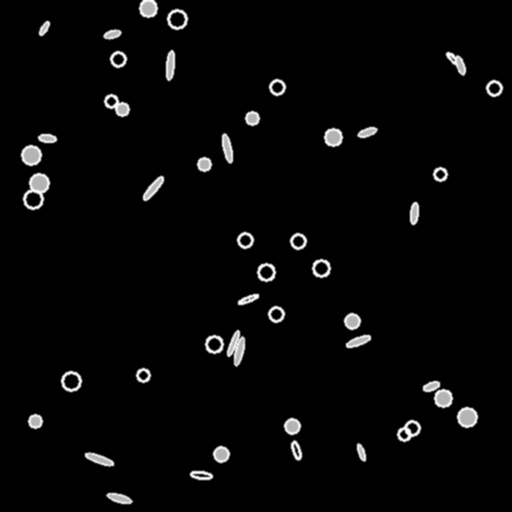pseudomonas: (141, 175, 165, 201), (84, 451, 114, 467), (220, 133, 234, 163), (232, 336, 246, 366), (345, 334, 371, 348), (226, 330, 240, 356), (107, 491, 132, 505), (165, 51, 175, 79), (237, 293, 259, 305), (357, 126, 377, 138), (290, 440, 302, 460), (454, 56, 466, 74), (422, 380, 440, 392), (103, 28, 121, 40), (191, 470, 211, 480), (409, 203, 419, 223), (445, 51, 459, 65), (38, 20, 50, 36), (356, 444, 366, 460), (39, 134, 55, 142)
synechocystis: (168, 10, 186, 28), (30, 174, 48, 192), (62, 372, 80, 390), (458, 408, 476, 426), (24, 190, 42, 208), (22, 146, 40, 164), (140, 0, 156, 16), (313, 260, 329, 276), (435, 390, 451, 406), (206, 336, 222, 352), (325, 129, 341, 145), (258, 264, 274, 280), (111, 52, 125, 66), (345, 314, 359, 328), (487, 81, 501, 95), (285, 419, 299, 433), (238, 233, 252, 247), (405, 421, 419, 435), (214, 447, 228, 461), (291, 234, 305, 248), (270, 80, 284, 94), (269, 307, 283, 321), (434, 168, 446, 180), (105, 95, 117, 107), (246, 112, 258, 124), (398, 428, 410, 440), (137, 369, 149, 381), (116, 103, 128, 115), (29, 415, 41, 427), (198, 158, 210, 170)
